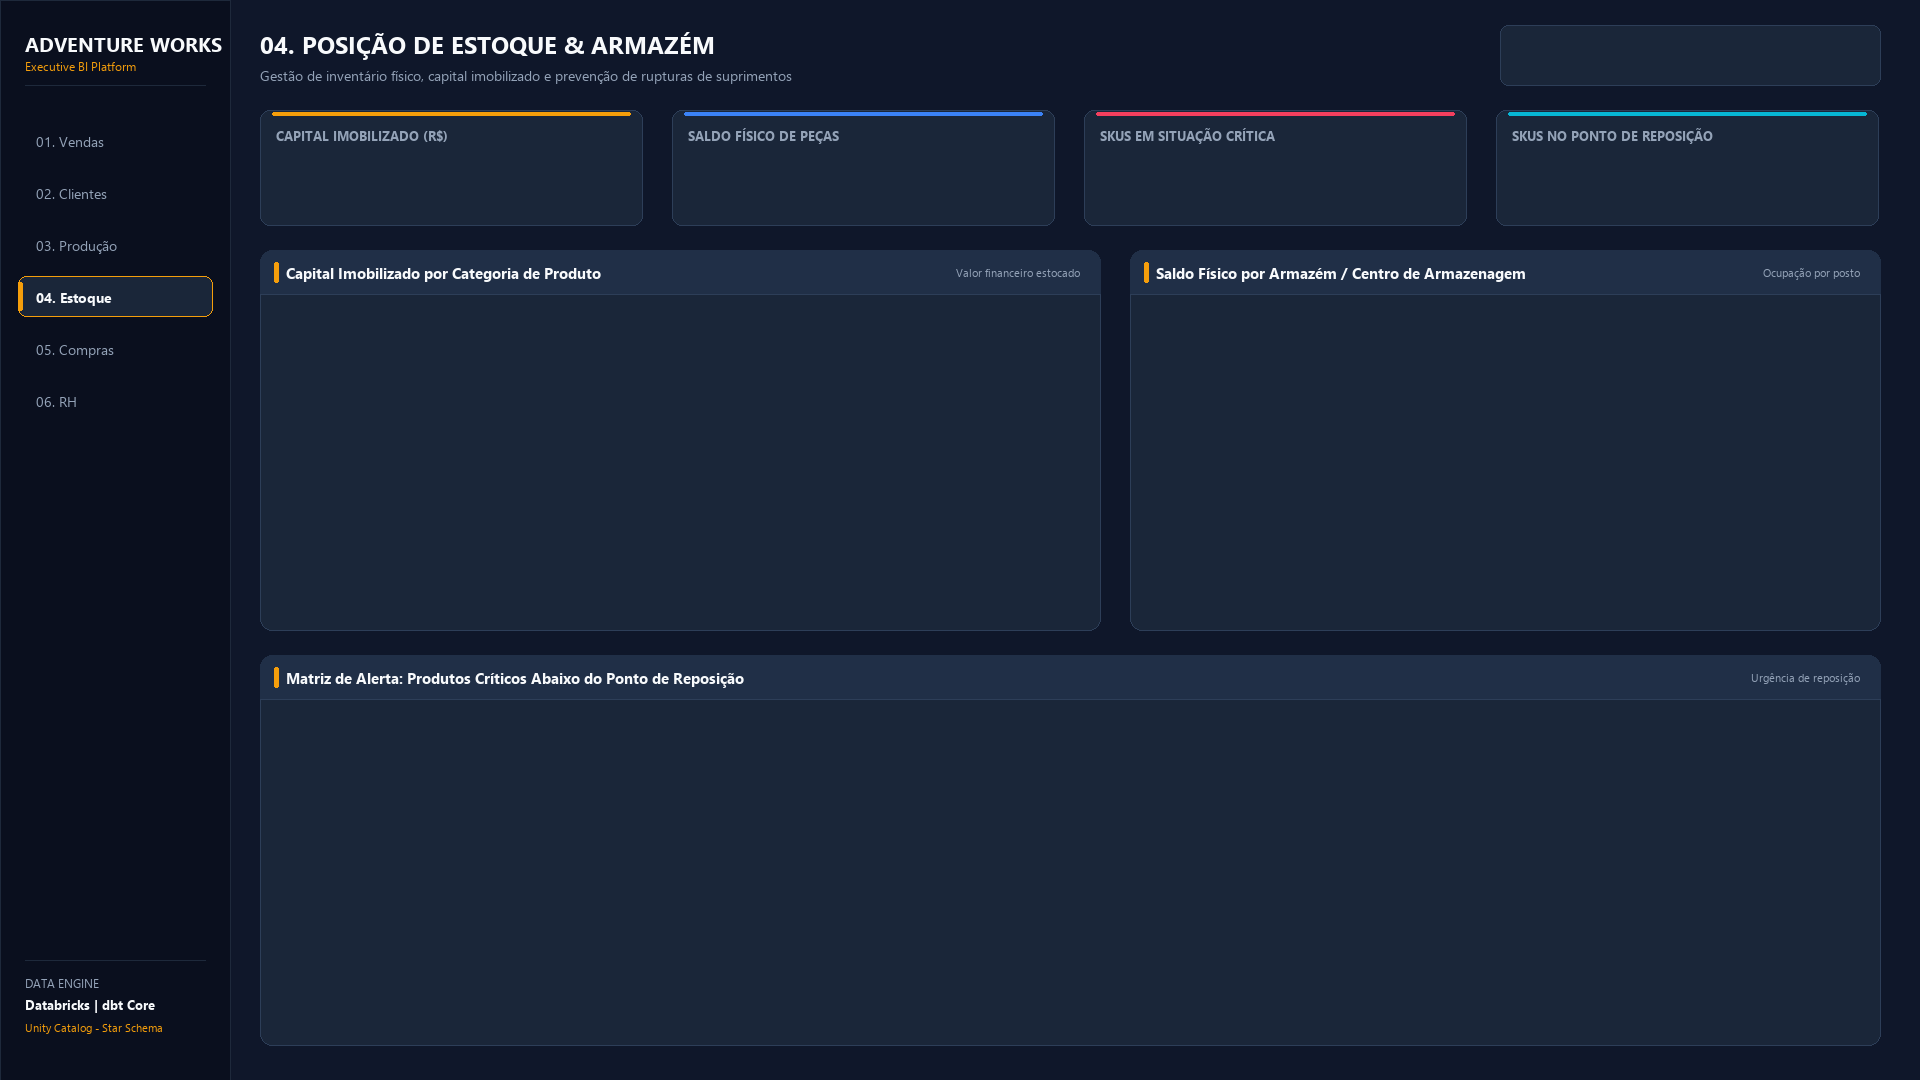

This screenshot's page, from the dashboard's own definition file:
{"tool":"powerbi","page":{"name":"Estoque","canvas":[1920,1080],"ordinal":3},"visuals":[{"type":"slicer","fields":{"Values":["dates.calendar_date"]},"box":[1510,35,360,45],"z":0},{"type":"cardVisual","fields":{"Data":["d_Medidas.Capital em Estoque"]},"box":[260,140,380,75],"z":1000},{"type":"cardVisual","fields":{"Data":["d_Medidas.Saldo Físico Estoque"]},"box":[670,140,380,75],"z":2000},{"type":"cardVisual","fields":{"Data":["d_Medidas.SKUs Críticos Estoque"]},"box":[1080,140,380,75],"z":3000},{"type":"cardVisual","fields":{"Data":["d_Medidas.SKUs Ponto de Reposição"]},"box":[1490,140,380,75],"z":4000},{"type":"clusteredColumnChart","fields":{"Category":["products.category_name"],"Y":["d_Medidas.Capital em Estoque"]},"box":[270,298,820,320],"z":5000},{"type":"clusteredBarChart","fields":{"Category":["inventory_snapshots.shelf_code"],"Y":["d_Medidas.Saldo Físico Estoque"]},"box":[1140,298,730,320],"z":6000},{"type":"tableEx","fields":{"Values":["products.product_number","products.product_name","products.category_name","inventory_snapshots.stock_quantity","inventory_snapshots.safety_stock_level","inventory_snapshots.reorder_point_level","d_Medidas.Capital em Estoque","inventory_snapshots.stock_health_status"]},"box":[270,702,1600,330],"z":7000}]}

Visuals, with their boxes on the page's 1920x1080 design canvas (x1, y1, x2, y2). These are canvas units, not pixel positions in the 1920x1080 screenshot, which may show the page scaled, cropped or inside an application window:
slicer - dates.calendar_date: box=[1510, 35, 1870, 80]
cardVisual - d_Medidas.Capital em Estoque: box=[260, 140, 640, 215]
cardVisual - d_Medidas.Saldo Físico Estoque: box=[670, 140, 1050, 215]
cardVisual - d_Medidas.SKUs Críticos Estoque: box=[1080, 140, 1460, 215]
cardVisual - d_Medidas.SKUs Ponto de Reposição: box=[1490, 140, 1870, 215]
clusteredColumnChart - products.category_name x d_Medidas.Capital em Estoque: box=[270, 298, 1090, 618]
clusteredBarChart - inventory_snapshots.shelf_code x d_Medidas.Saldo Físico Estoque: box=[1140, 298, 1870, 618]
tableEx - products.product_number x products.product_name: box=[270, 702, 1870, 1032]
